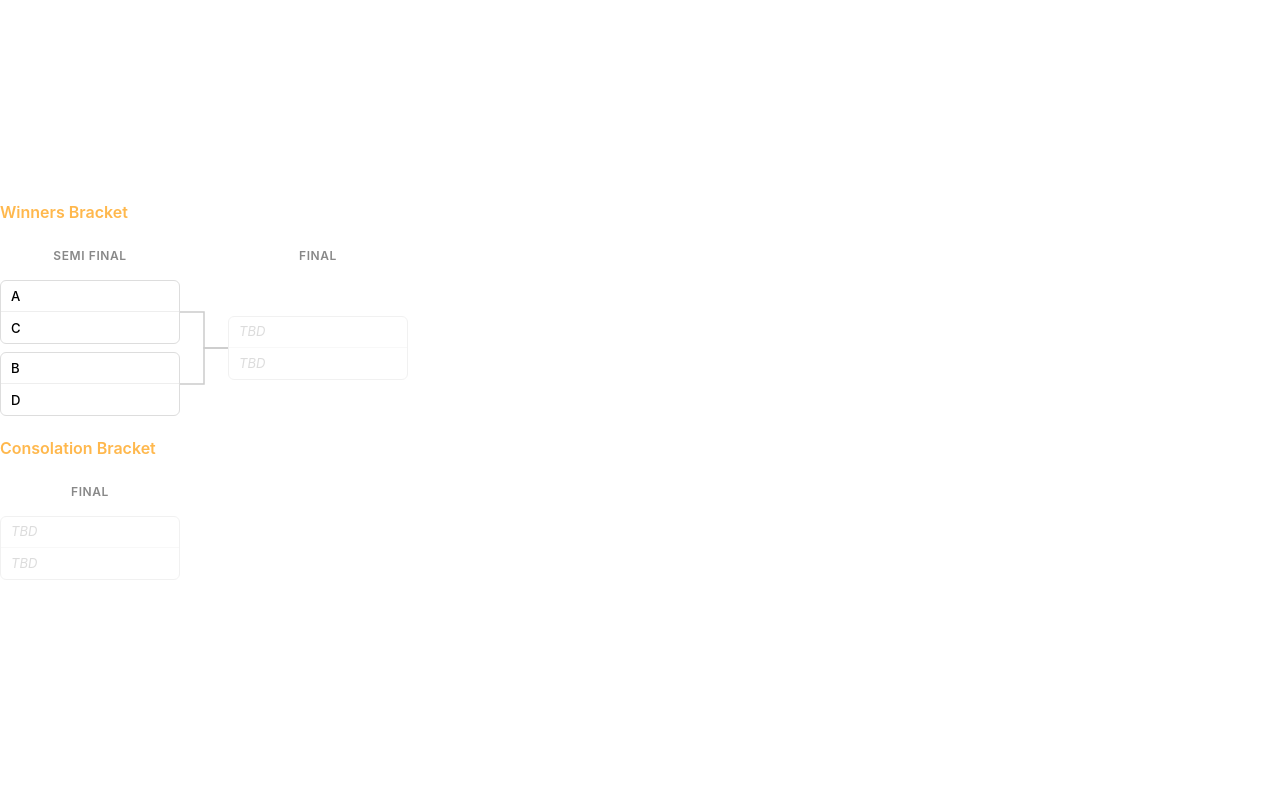
EliminationBracket › match nodes › clicking a team opens ScoreInputModal
Click the button with test id "^bracket-team-1-" at x=90, y=296, box left=1, top=281, right=179, bottom=312
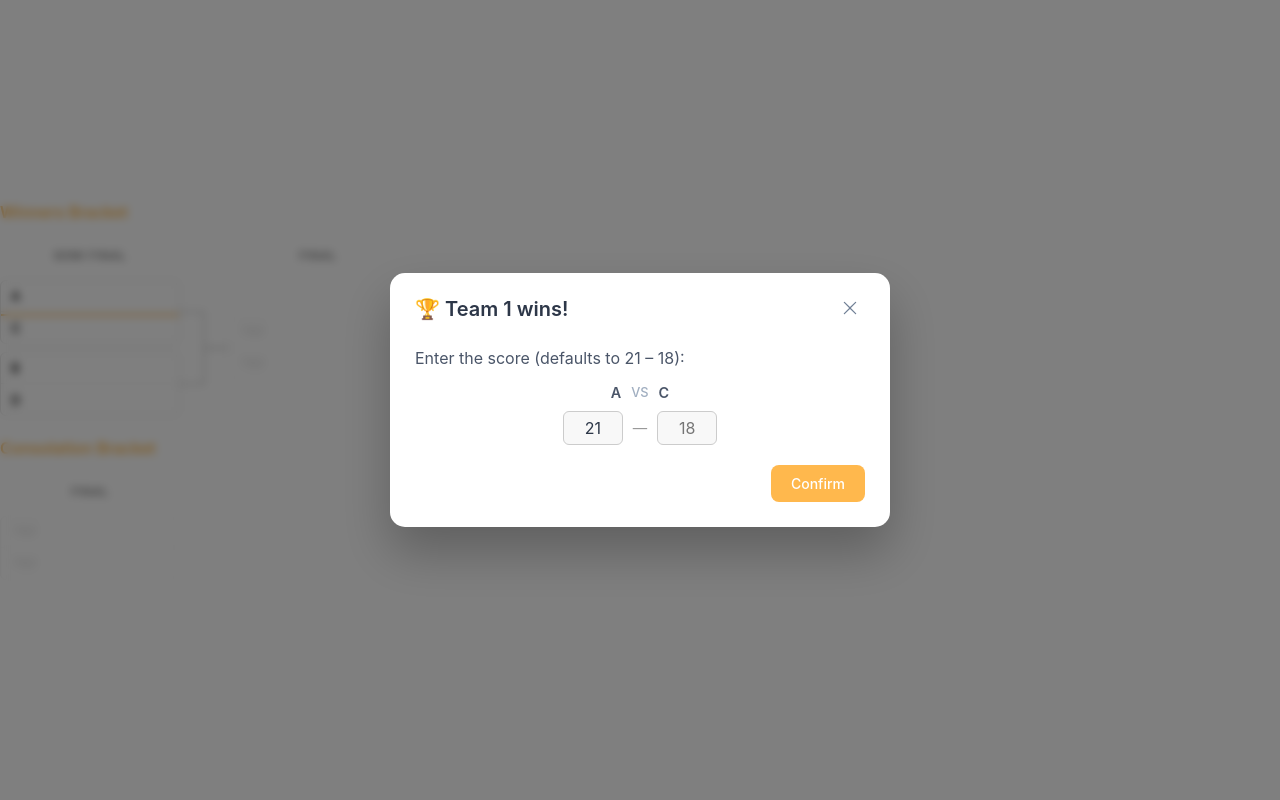
Check: the element with test id "score-input-modal" is shown
